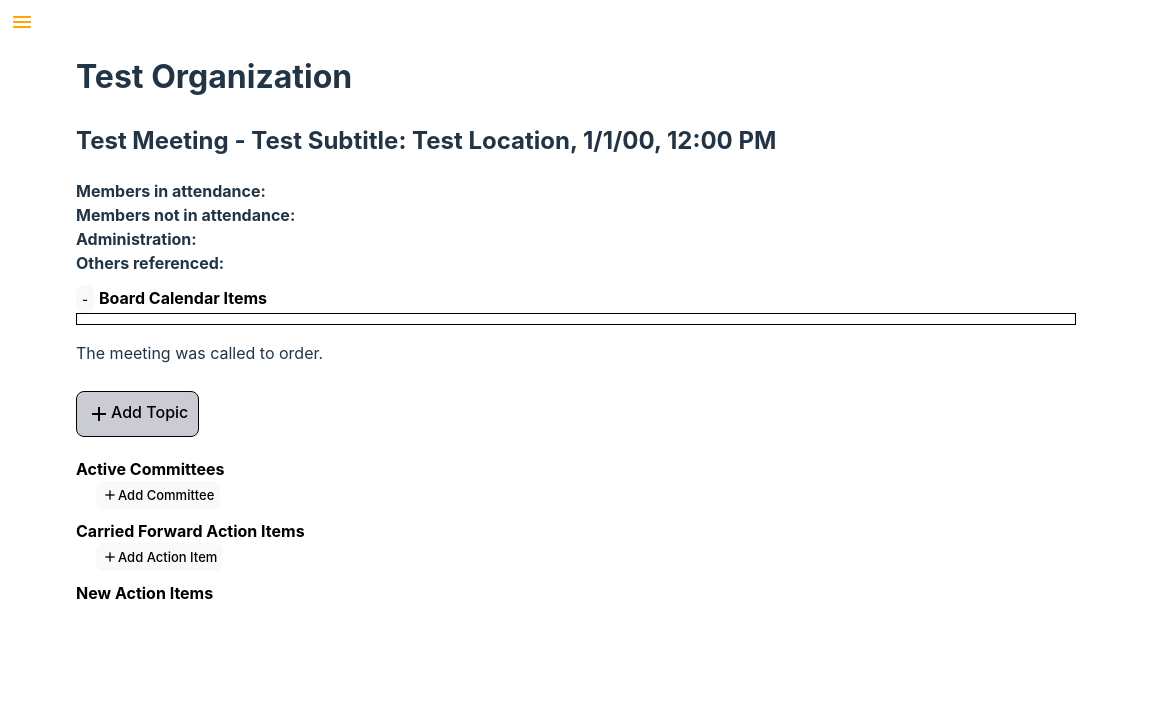
metadata › allows editing the meeting title
Hover over the heading that starts with "Test Meeting" at (426, 140), box [76, 126, 776, 155]
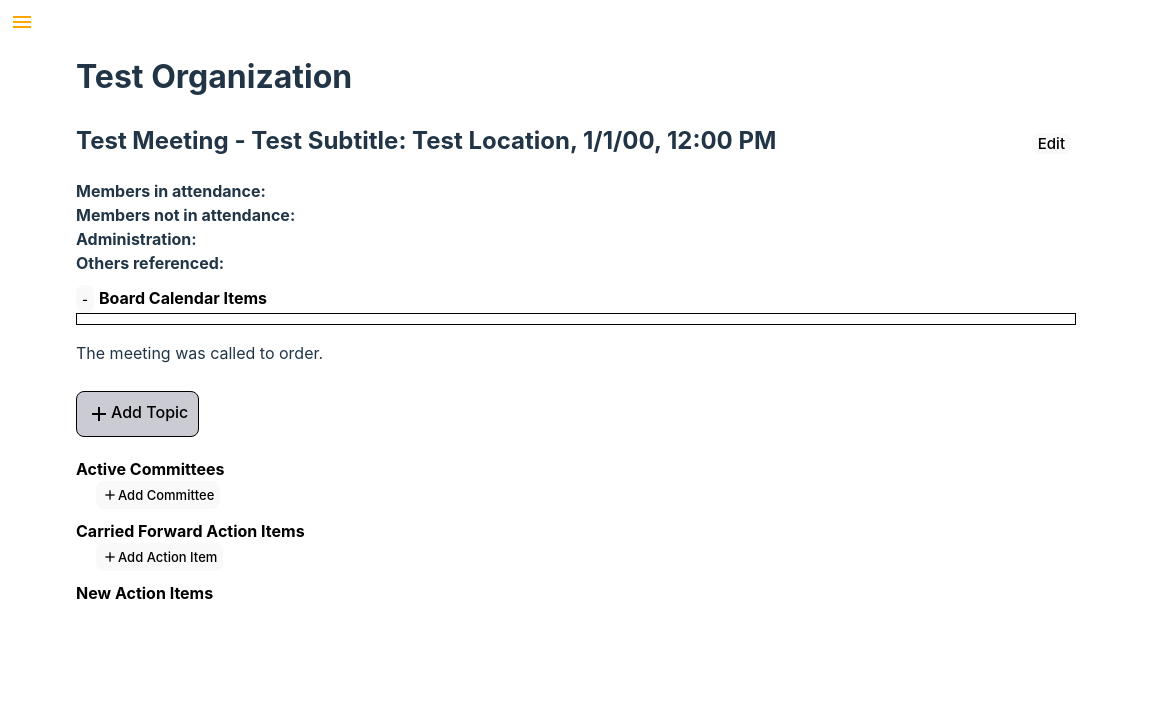
Click the button "Edit" at (1051, 143), box [1032, 133, 1071, 154]
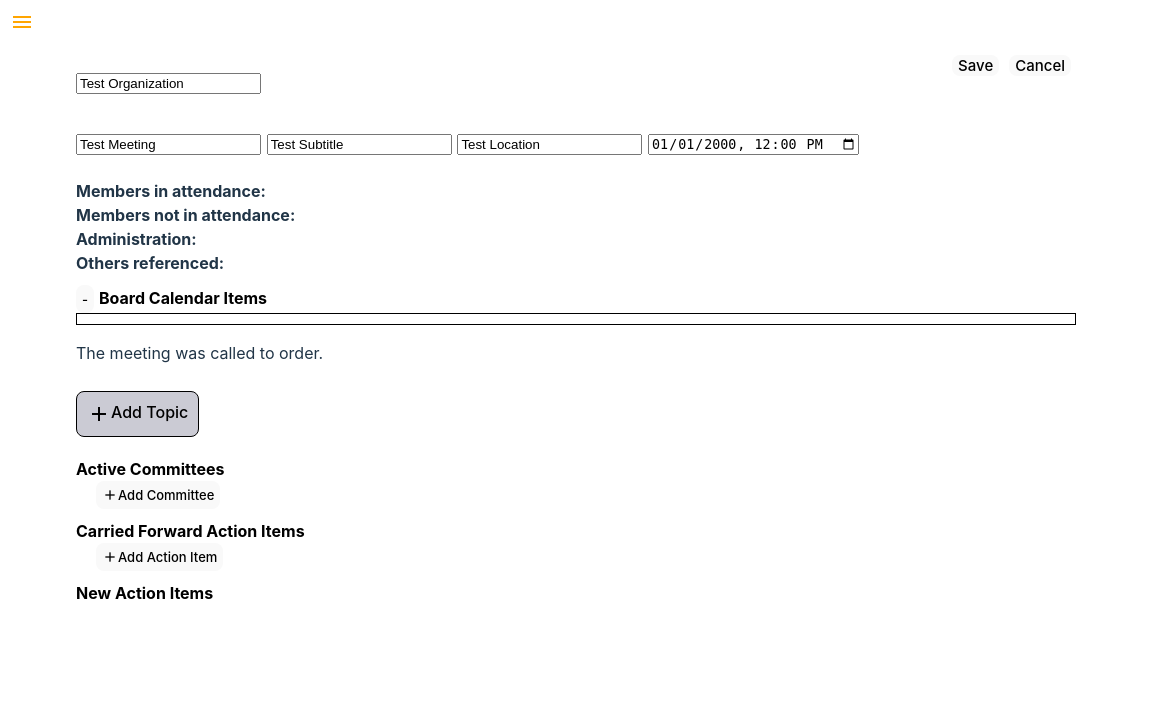
Replace the text in the field named "Title" with "New Meeting Title" at (168, 144), box [76, 134, 261, 155]
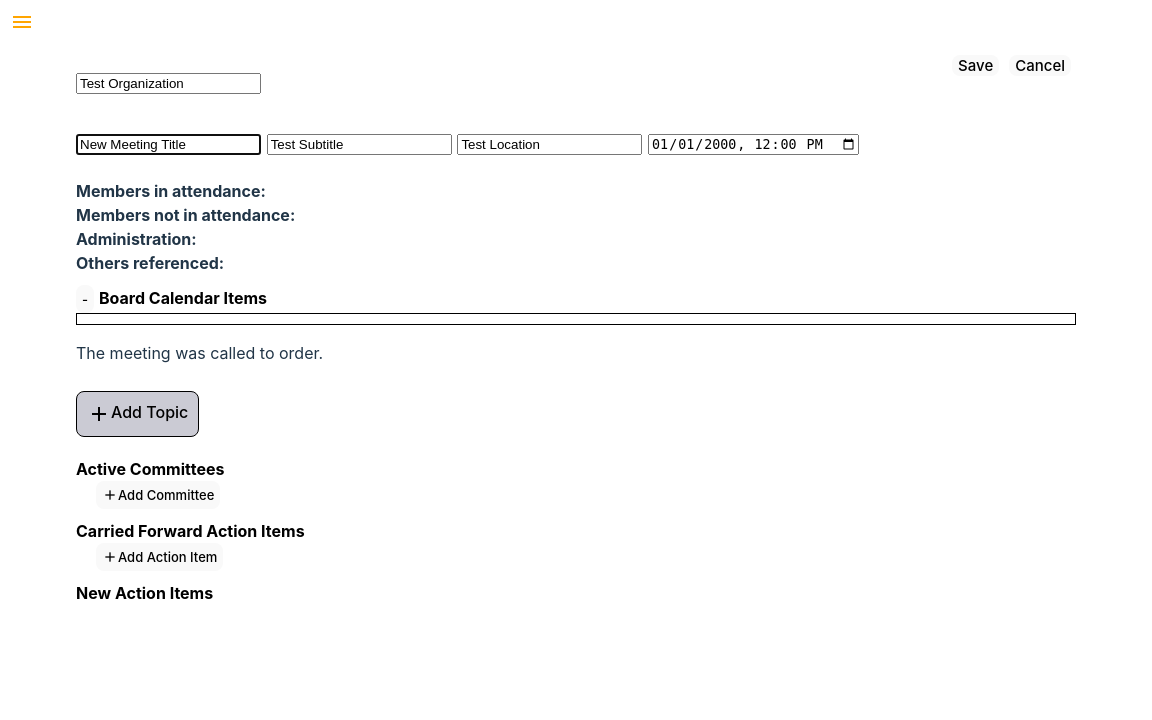
Click the button "Save" at (976, 66), box [952, 55, 999, 76]
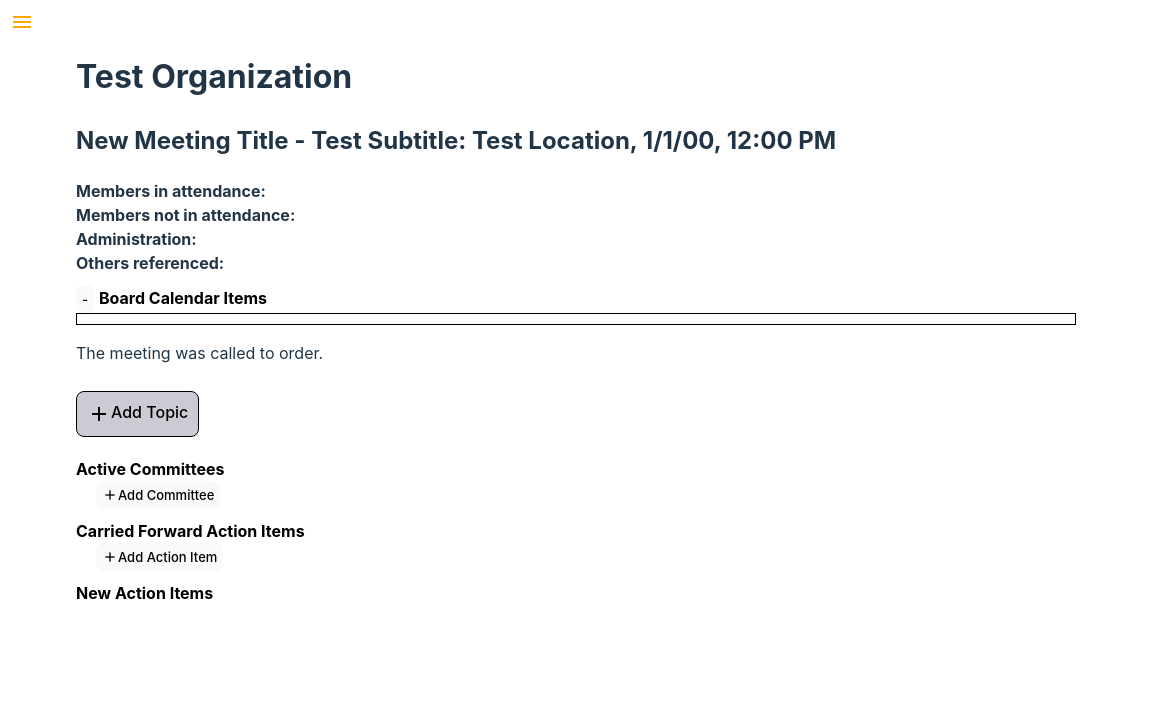
Check: the heading that starts with "New Meeting Title" reads "New Meeting Title - Test Subtitle: Test Location, 1/1/00, 12:00 PM", box [76, 126, 836, 155]
